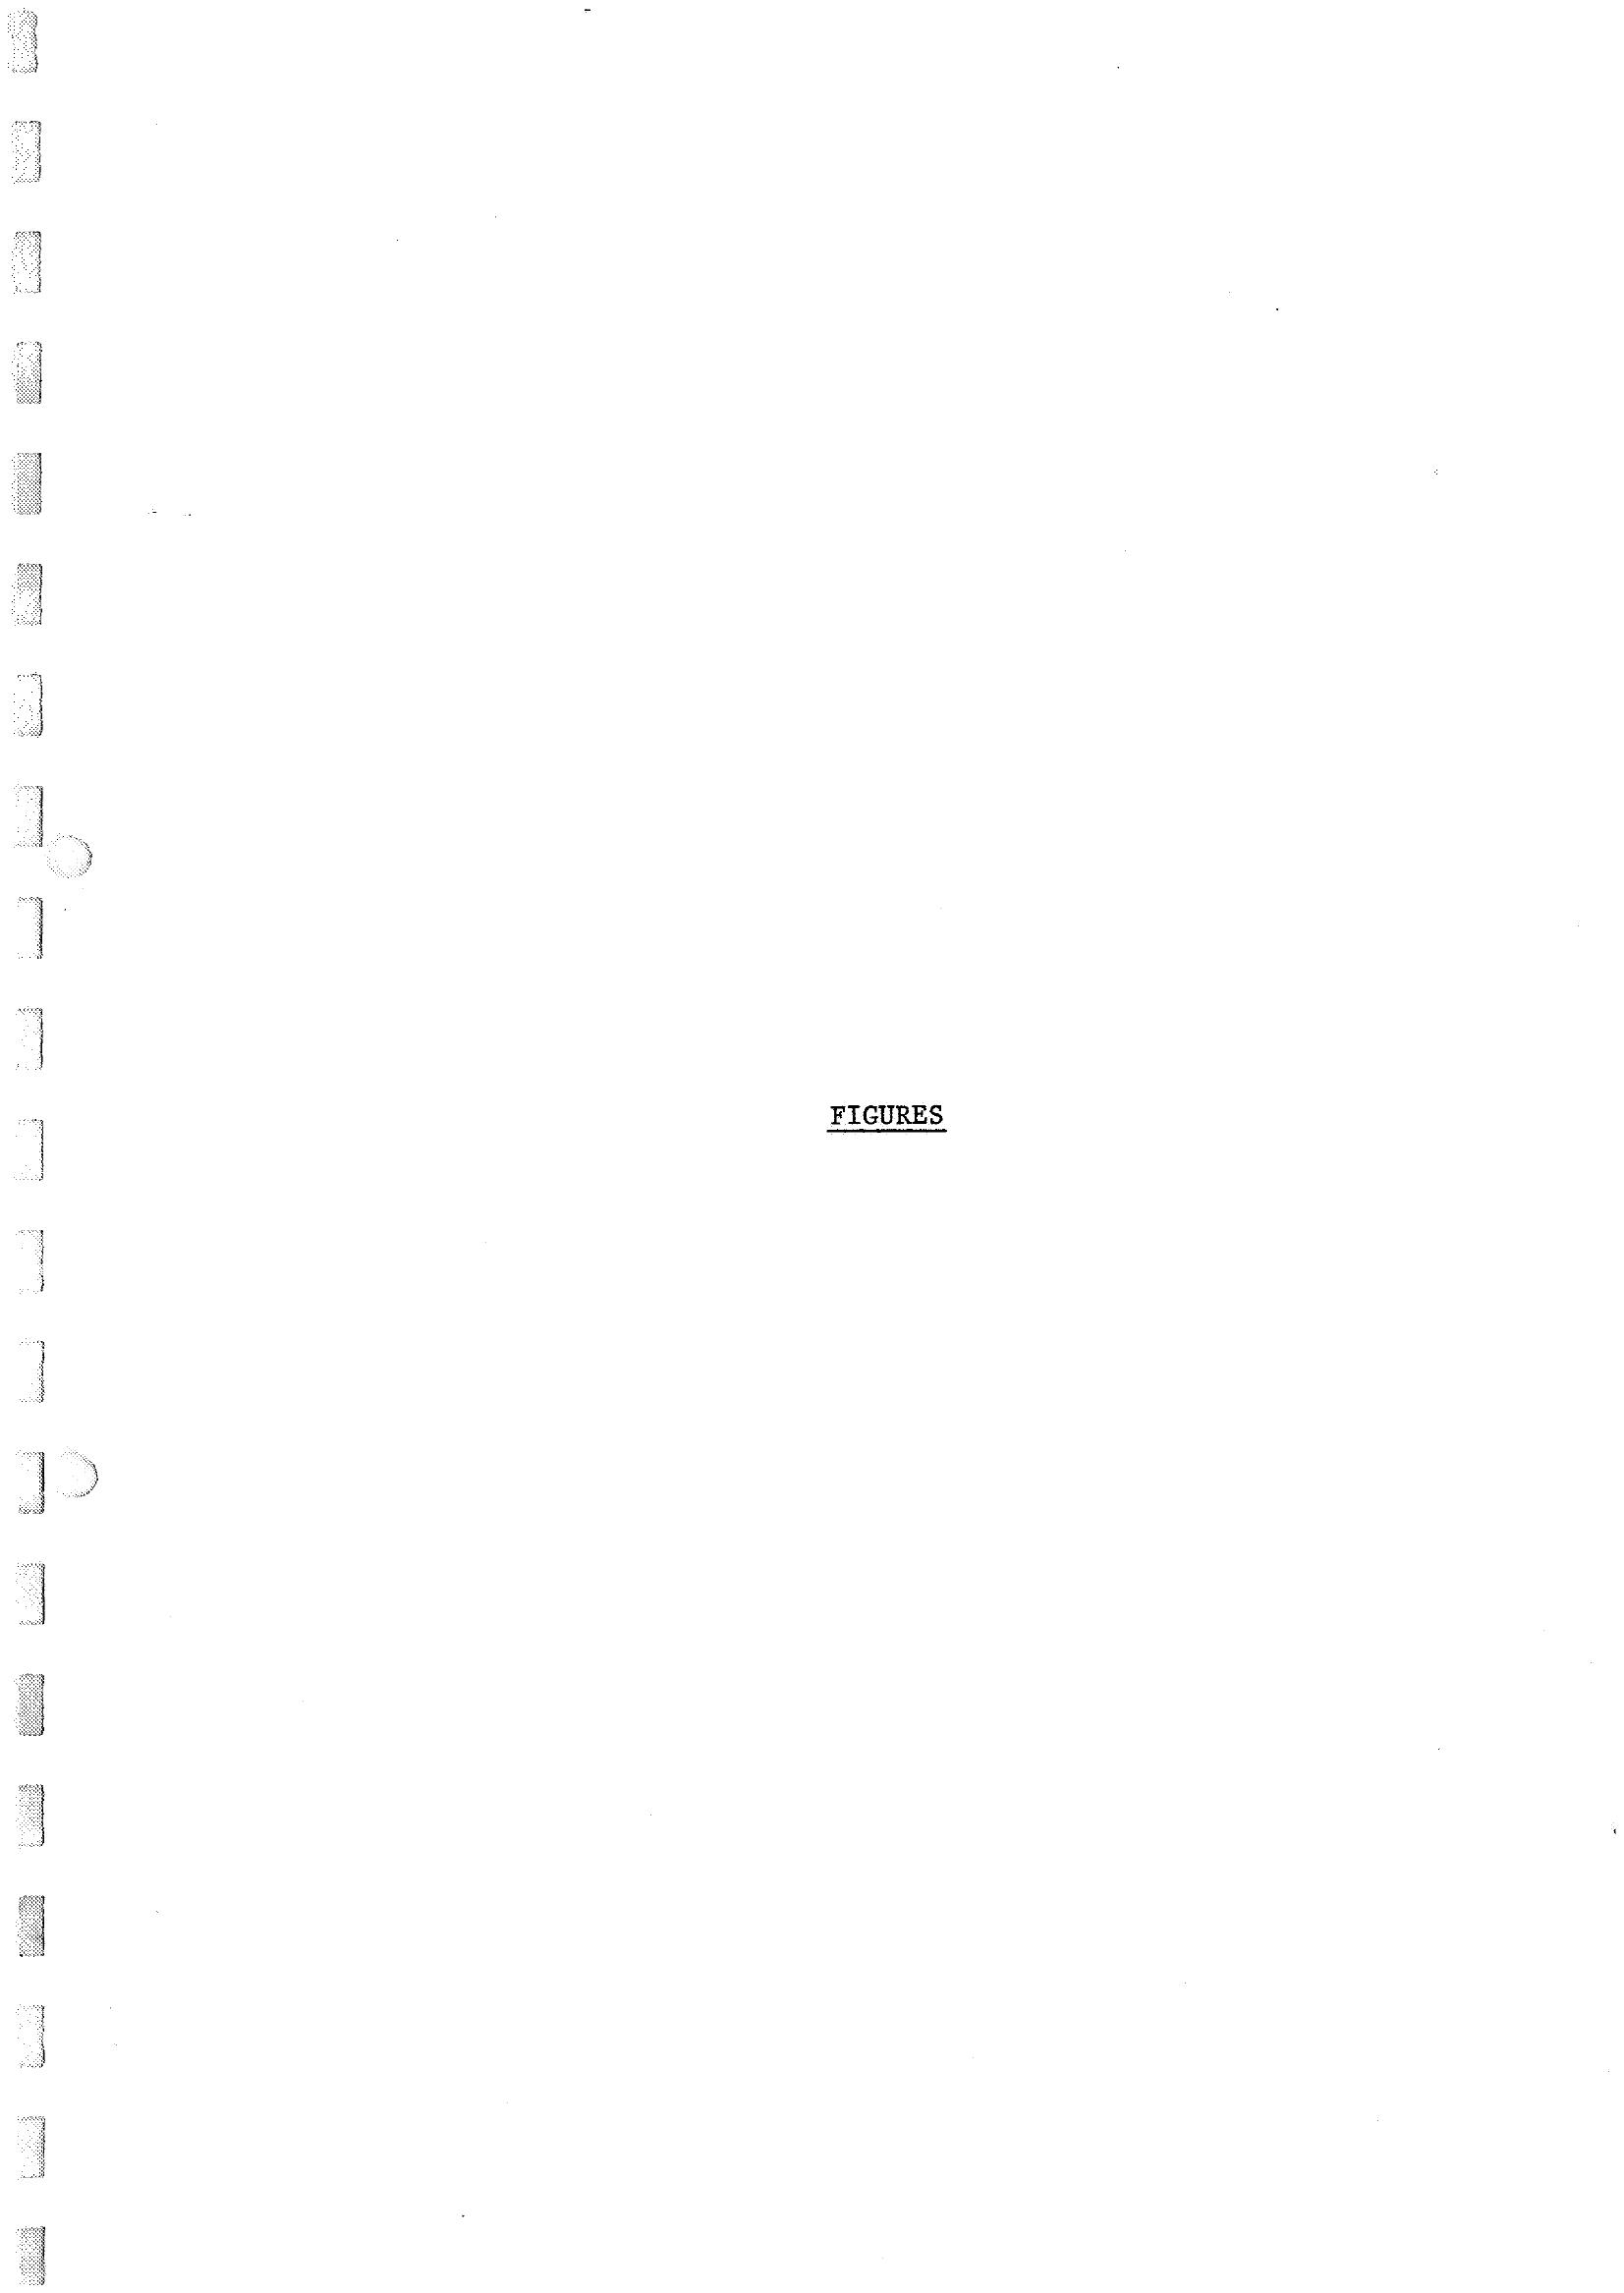text: (796, 1088, 977, 1161)
